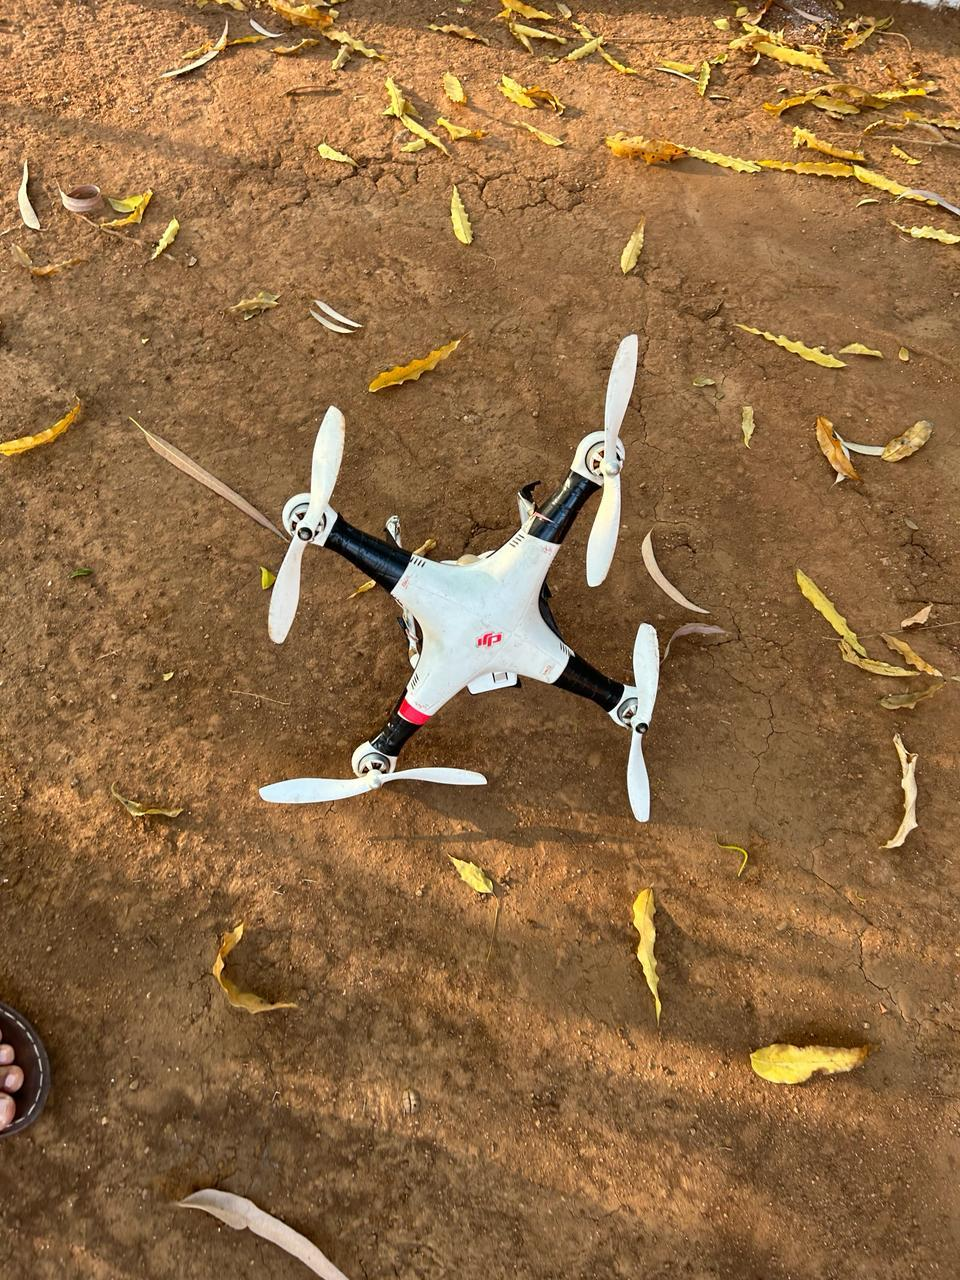drone: (223, 360, 689, 862)
